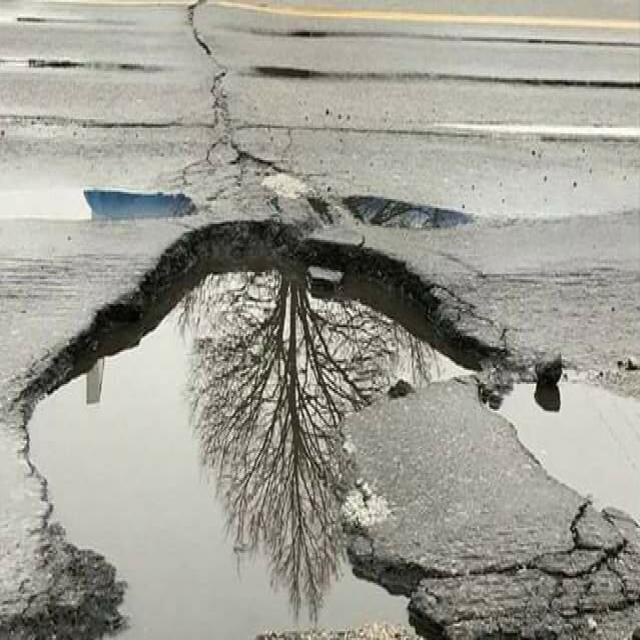Pothole: (0, 215, 514, 640), (499, 382, 640, 519), (342, 195, 474, 228)
